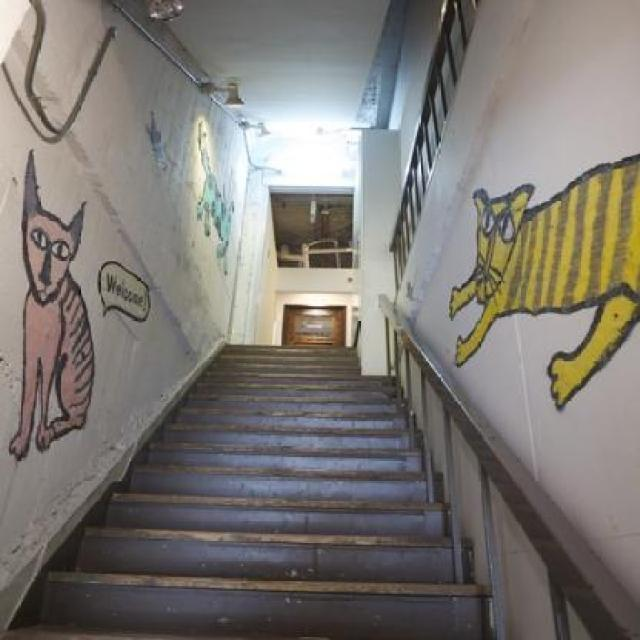stair: (98, 392, 470, 640)
